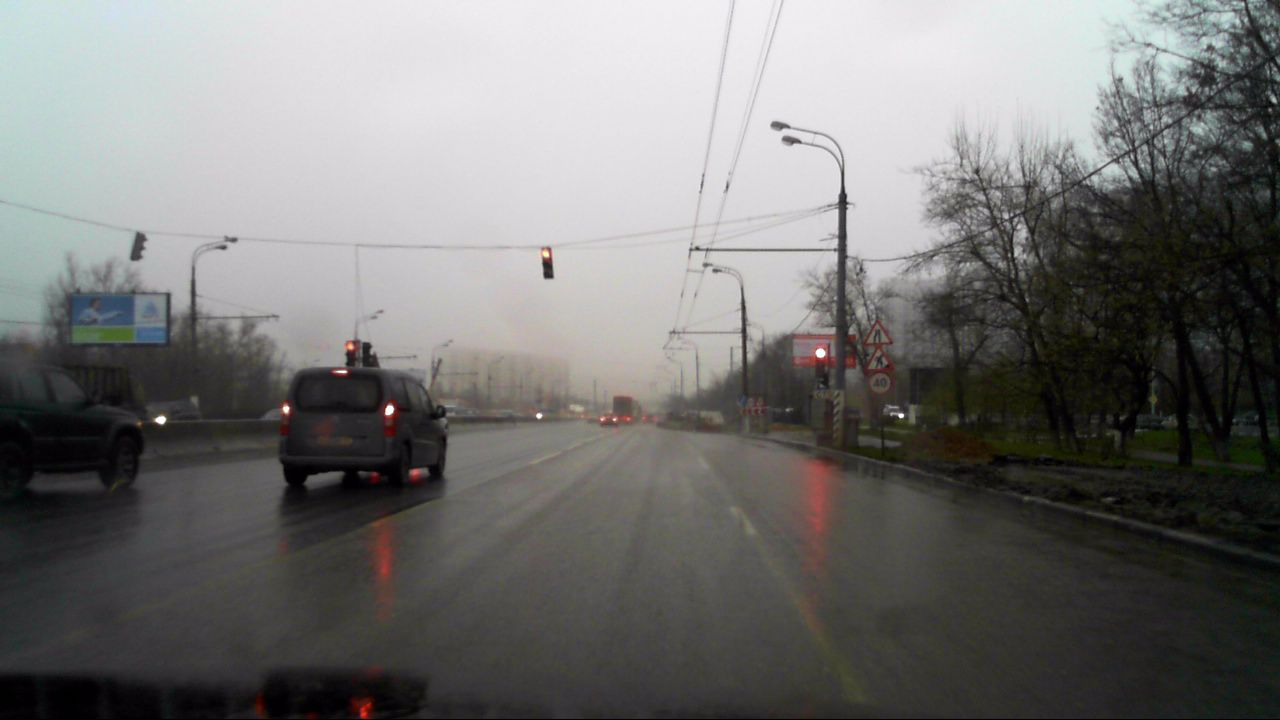speed_warning_40: (869, 373, 890, 393)
